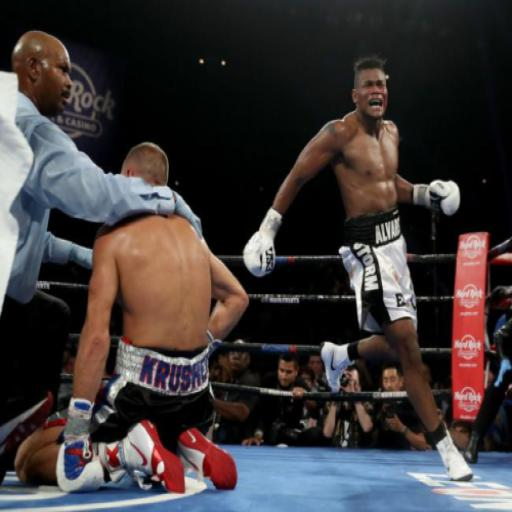boxing: (242, 54, 474, 481)
